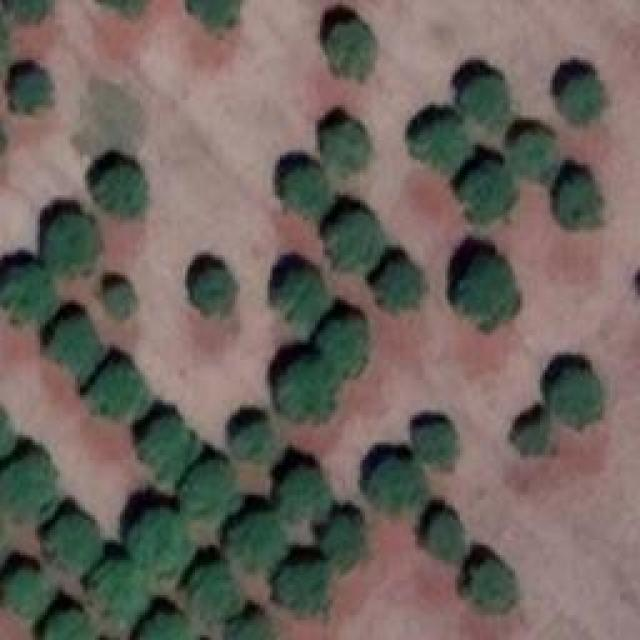Tree: (278, 358, 343, 418), (457, 258, 515, 318), (225, 508, 283, 568), (363, 457, 423, 515), (37, 515, 95, 573), (333, 208, 386, 271), (43, 210, 98, 268), (190, 563, 248, 618), (135, 508, 188, 568), (95, 558, 145, 621), (275, 265, 328, 323), (463, 162, 516, 220), (415, 118, 473, 171), (550, 367, 603, 425), (0, 455, 55, 510), (93, 363, 143, 423), (180, 460, 233, 513), (93, 163, 143, 218), (140, 415, 190, 470), (0, 263, 50, 316), (325, 315, 373, 370), (460, 70, 508, 125), (325, 20, 373, 73), (282, 163, 330, 216), (283, 565, 336, 613), (55, 318, 100, 371), (325, 118, 370, 171), (423, 513, 468, 563), (3, 565, 48, 615), (465, 560, 510, 610), (508, 130, 553, 180), (555, 78, 600, 128), (323, 513, 363, 568), (375, 260, 423, 305), (283, 465, 328, 510), (560, 175, 595, 230), (417, 417, 455, 465), (10, 70, 50, 113), (184, 0, 237, 32), (235, 420, 275, 460), (143, 610, 196, 640), (198, 268, 233, 311), (218, 610, 268, 640), (42, 610, 90, 640), (100, 285, 138, 320), (520, 423, 558, 456)
